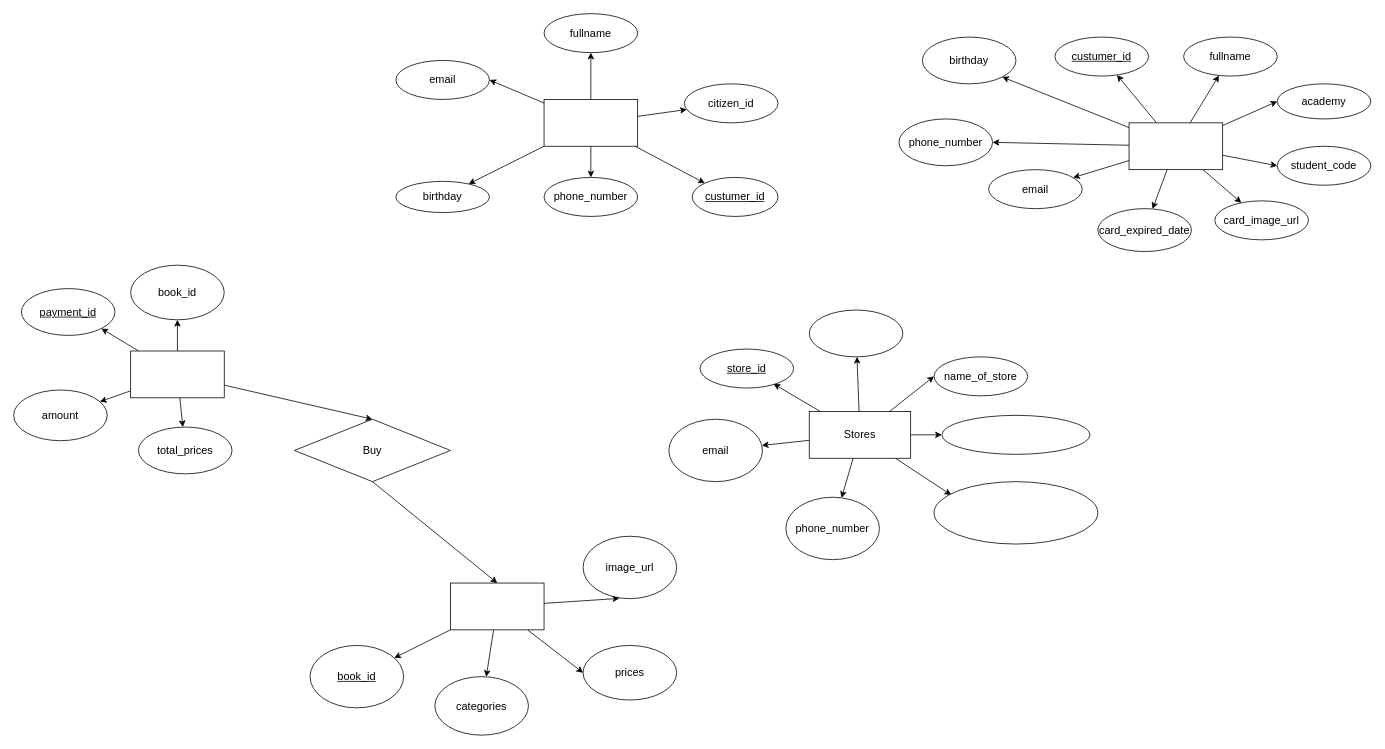
This 1385x749 diagram has some shape labels left out. Each missing label, with the centre of its shape:
Books: the point at 497,606
entrepreneur_name: the point at 855,333
GeneralCustumers: the point at 590,122
legal_entity_document_url: the point at 1015,512
legal_registration_number: the point at 1015,434
Orders: the point at 177,374
StudentCustumers: the point at 1175,146
